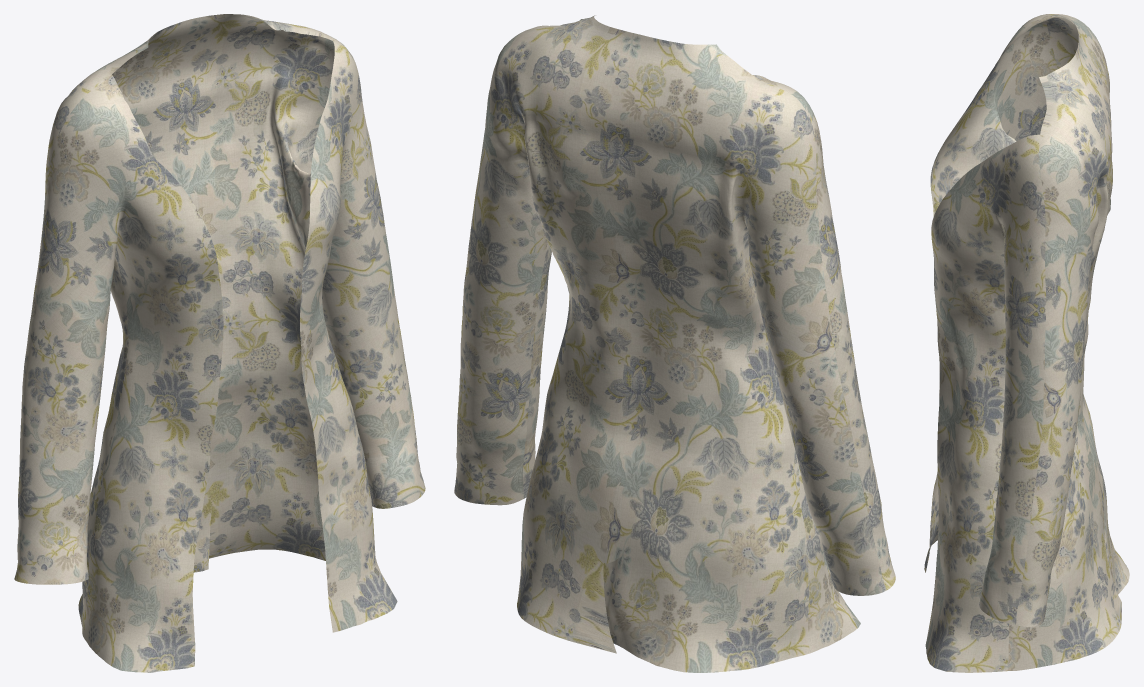
File: mid_thigh.glb
3 views of the same model, side by side, from view 1: azimuth 30°, elevation 25°; view 2: azimuth 150°, elevation 25°; view 3: azimuth 270°, elevation 25° (orthographic). The views are drawn at different scales.
Visible parts, largest first — view 1: Short_Inner_with vents; view 2: Short_Inner_with vents; view 3: Short_Inner_with vents.
Part boxes in pixels (x1=…): Short_Inner_with vents: x1=14, y1=14, x2=425, y2=672; Short_Inner_with vents: x1=454, y1=15, x2=895, y2=672; Short_Inner_with vents: x1=924, y1=14, x2=1129, y2=672.
Size of the model in its own units: 55.4 by 74.8 by 24.33.
Materials: 1 (1 with a texture image).
